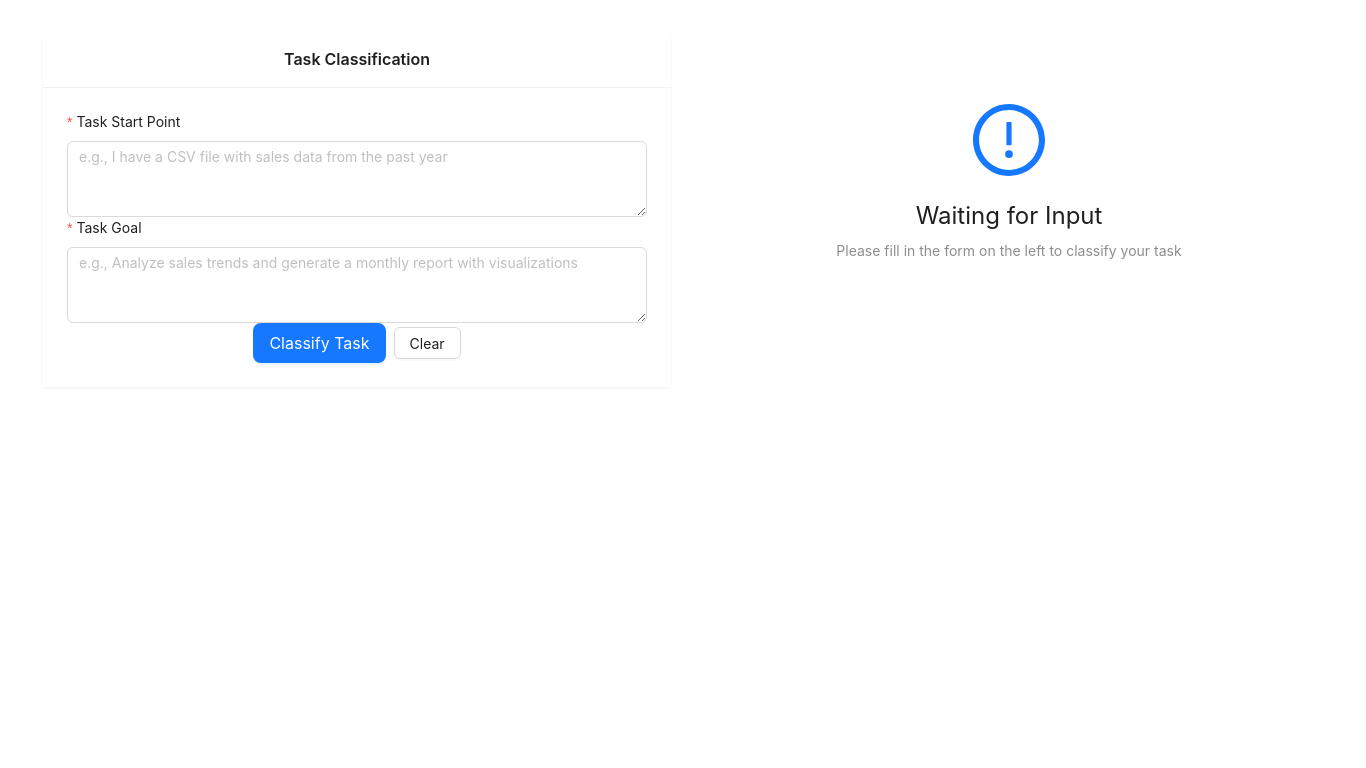
it: TaskClassificationPage › should display suggested tools
Type "Write content" into the text box labelled "Task Start Point" at (357, 179), box [67,141,647,217]
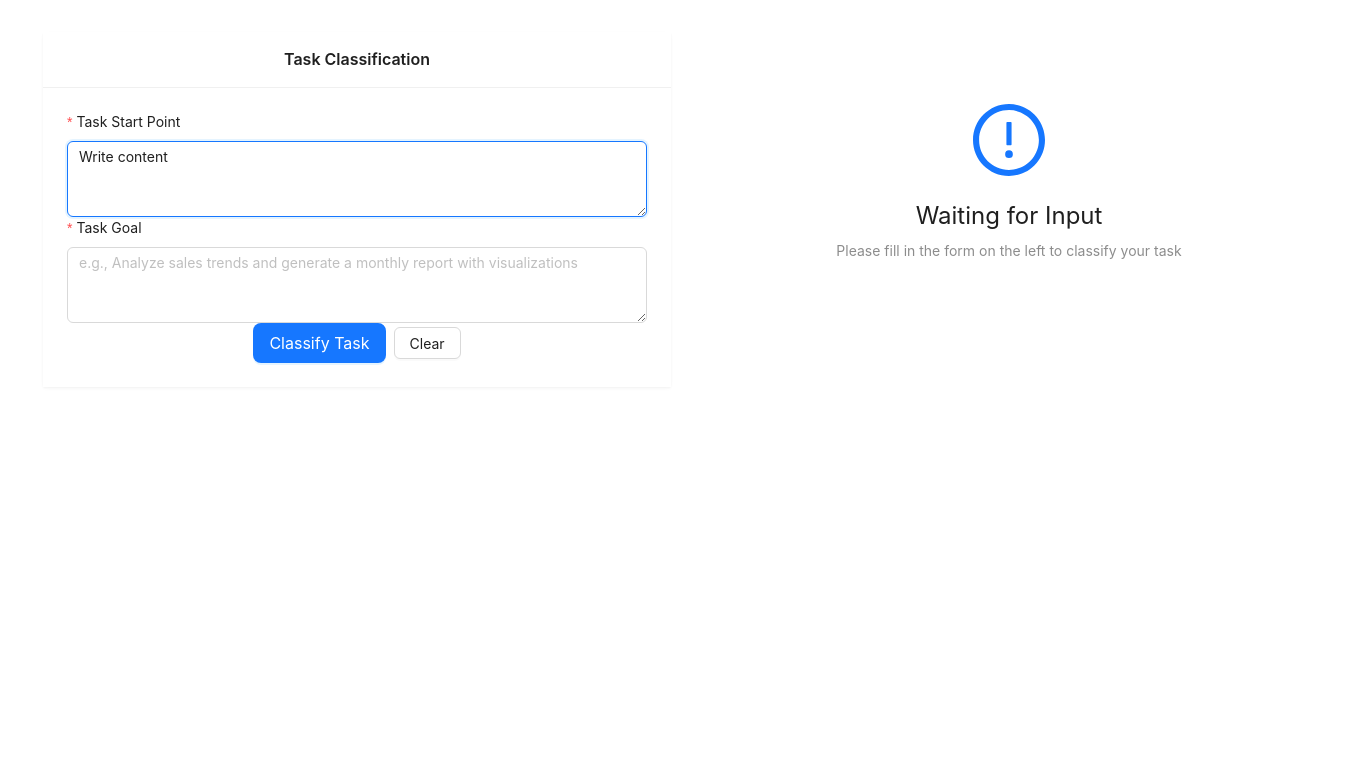
Type "Create marketing copy" into the text box labelled "Task Goal" at (357, 285), box [67,247,647,323]
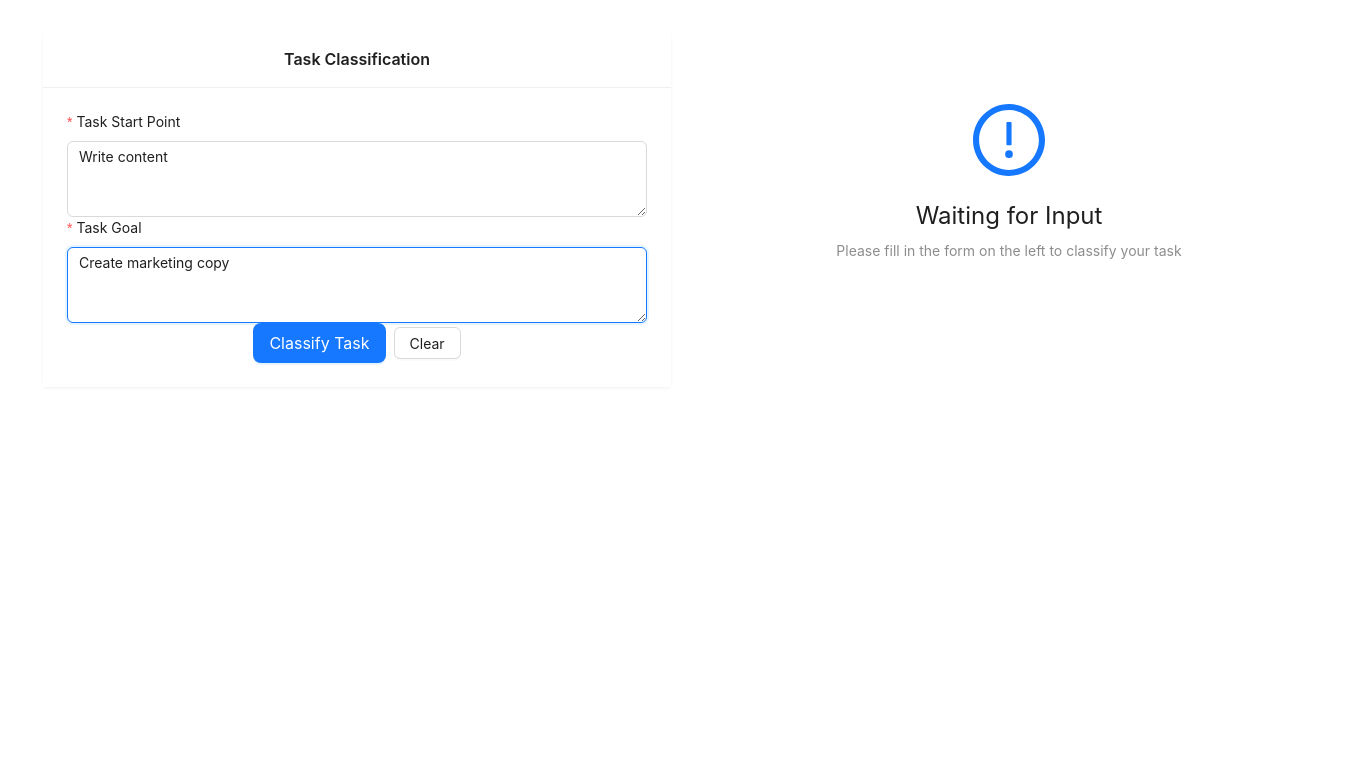
Click the button "Classify Task" at (319, 343), box [253,323,386,363]
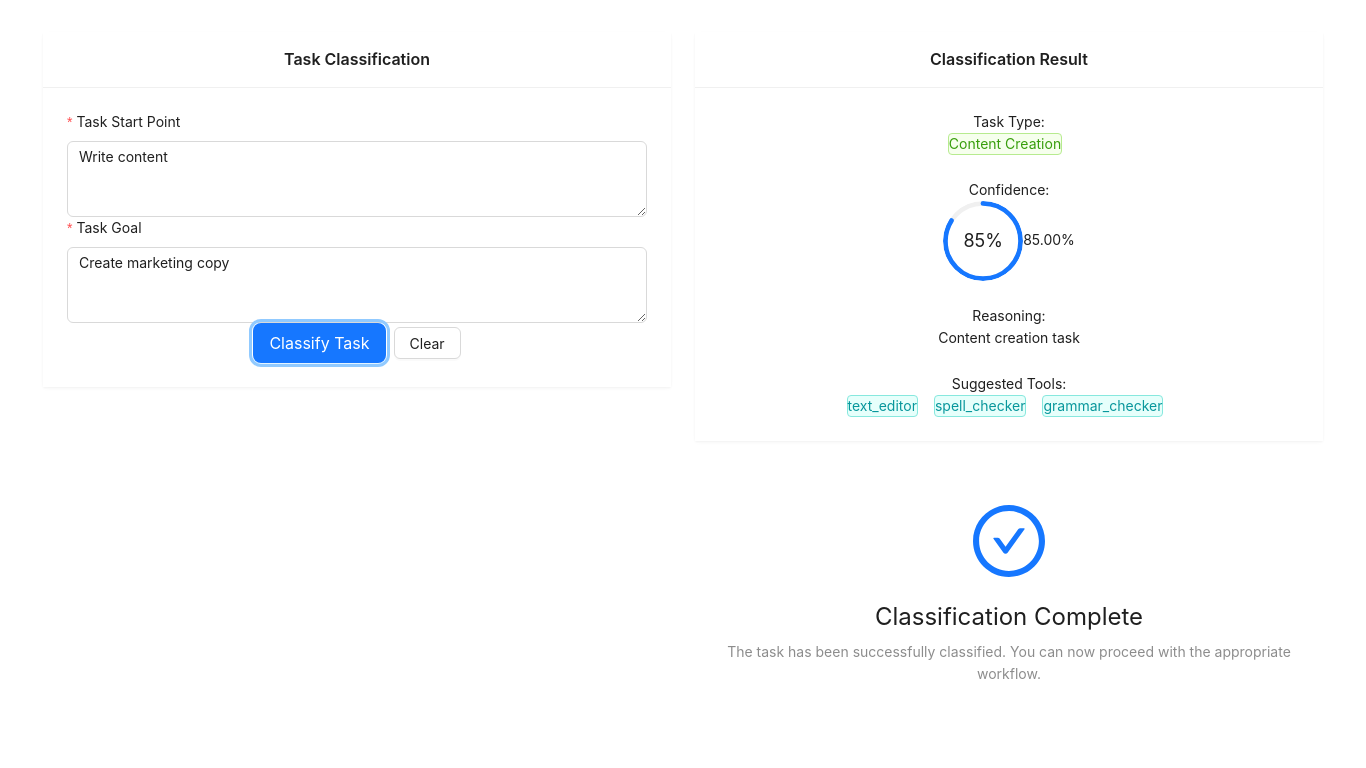
Result: the text "text_editor" is shown at [846,395,918,417]
Result: the text "spell_checker" is shown at [934,395,1026,417]
